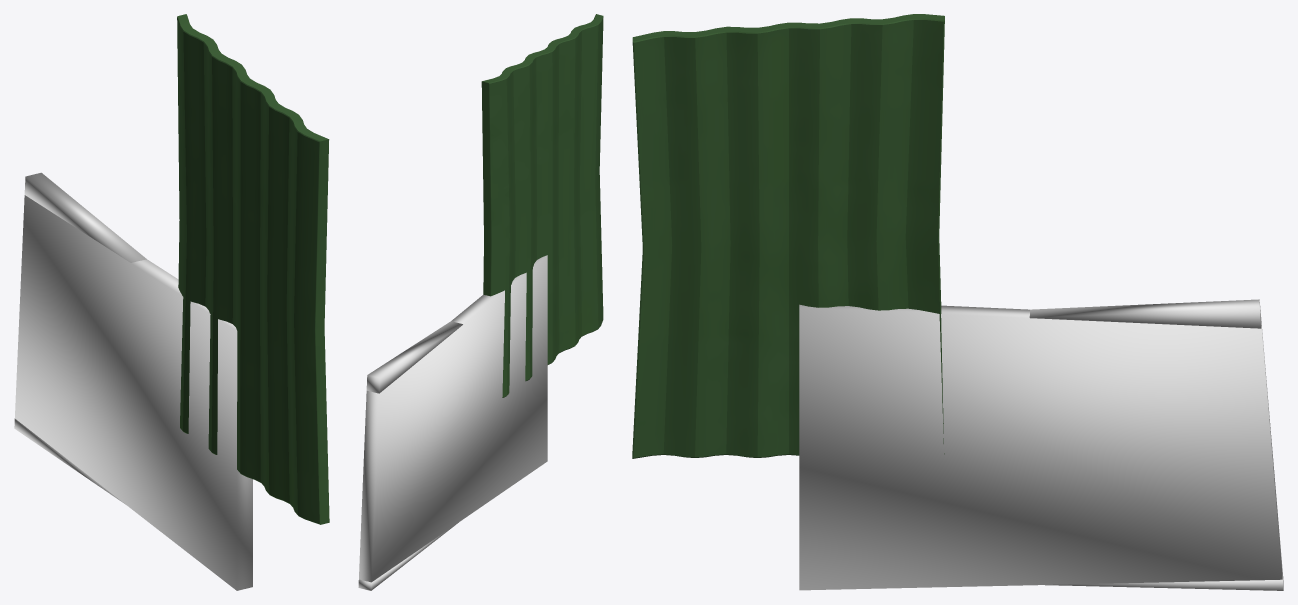
The model's file is SM_MetalPlate_02.fbx.
3 views of the same model, side by side, from view 1: azimuth 30°, elevation 25°; view 2: azimuth 150°, elevation 25°; view 3: azimuth 270°, elevation 25° (orthographic). The views are drawn at different scales.
Parts seen in each view (by area): view 1: SM_MetalPlate_02_ConvexHulls, SM_MetalPlate_02; view 2: SM_MetalPlate_02_ConvexHulls, SM_MetalPlate_02; view 3: SM_MetalPlate_02_ConvexHulls, SM_MetalPlate_02.
Boxes of the visible parts, <box> form: SM_MetalPlate_02_ConvexHulls: <box>14,172,252,590</box>; SM_MetalPlate_02: <box>177,14,329,524</box>; SM_MetalPlate_02_ConvexHulls: <box>358,255,547,590</box>; SM_MetalPlate_02: <box>481,14,603,397</box>; SM_MetalPlate_02_ConvexHulls: <box>799,299,1283,590</box>; SM_MetalPlate_02: <box>632,14,944,458</box>.
Bounding box in the file's own units: 0.0722 × 2 × 2.06.
